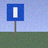sign: (7, 4, 24, 37)
